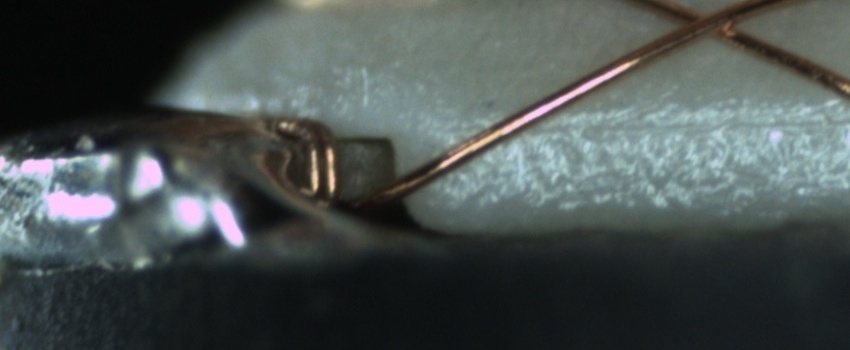CL: (666, 2, 757, 46)
DL: (437, 94, 848, 167)
TE: (236, 111, 344, 208)
